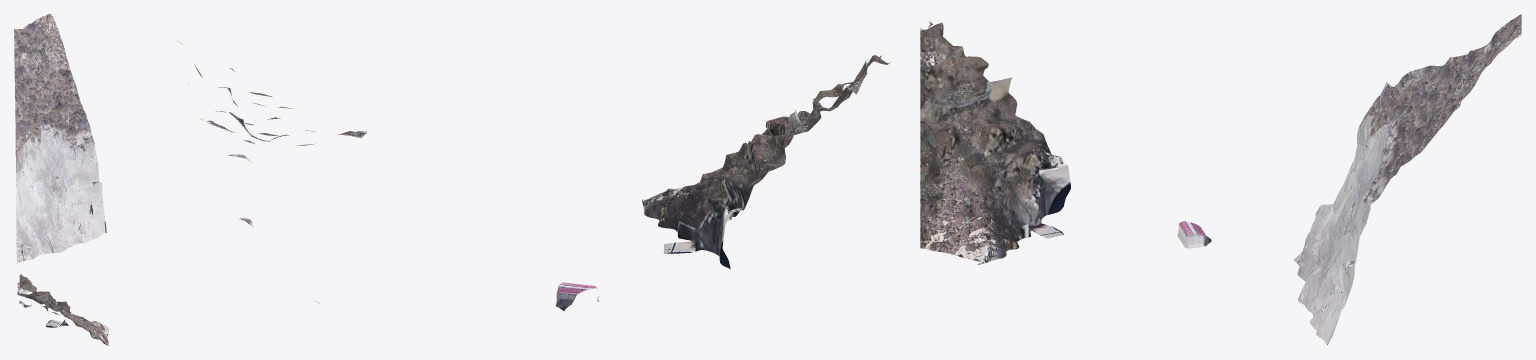
File: Tile_+005_+007_L19_00040.glb
3 views of the same model, side by side, from view 1: azimuth 30°, elevation 25°; view 2: azimuth 150°, elevation 25°; view 3: azimuth 270°, elevation 25° (orthographic). The views are drawn at different scales.
Parts seen in each view (by area): view 1: rtc; view 2: rtc; view 3: rtc.
Part boxes in pixels (box(x1,y1,x2,y2)): rtc: box(14, 14, 112, 345); rtc: box(177, 40, 890, 311); rtc: box(920, 14, 1521, 344).
Bounding box in the file's own units: 63.41 × 53.29 × 93.06.
1 material, 1 textured.
